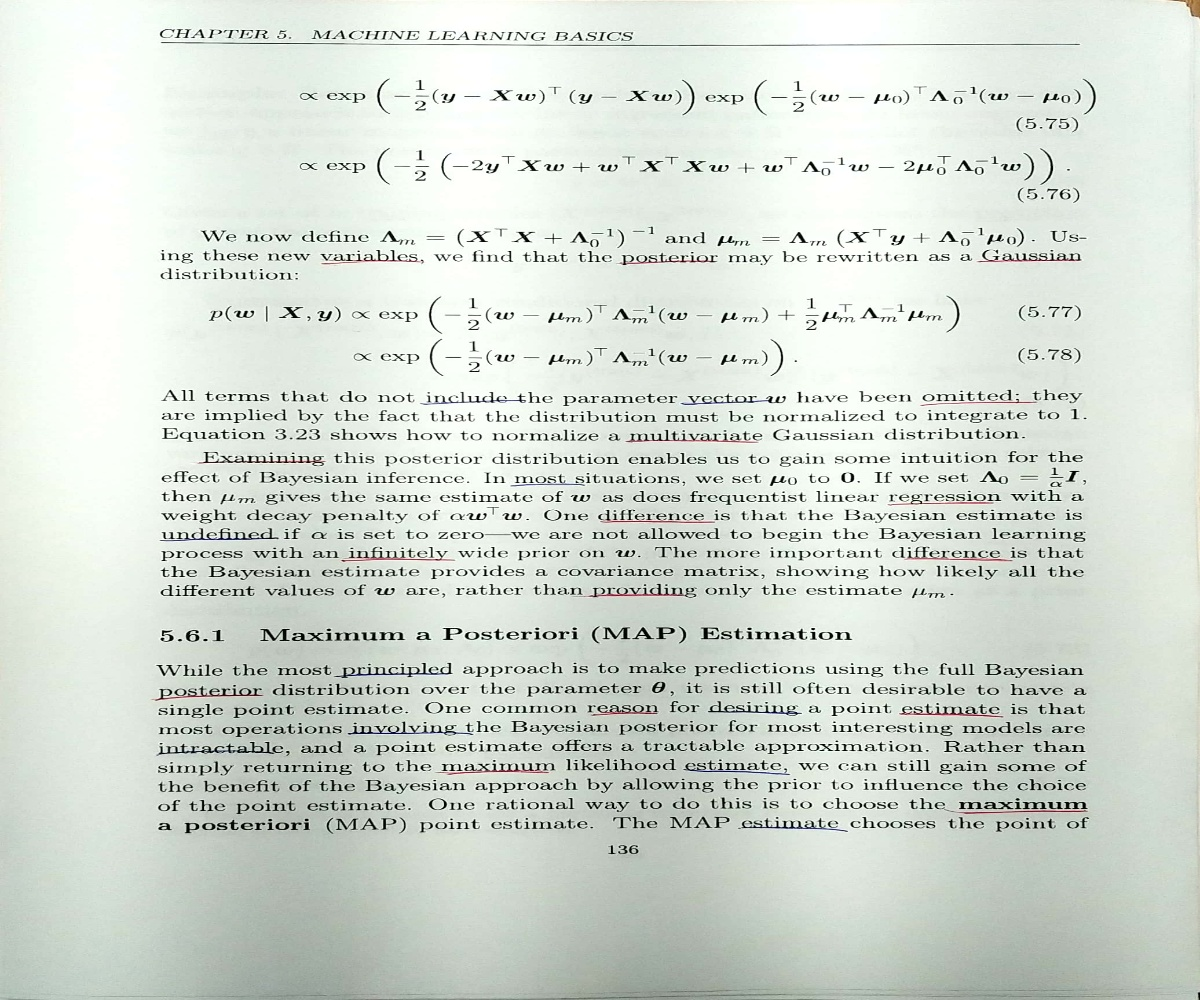underline: (347, 730, 476, 741), (736, 824, 853, 836), (942, 807, 1091, 816), (598, 517, 717, 528), (898, 709, 1007, 721), (899, 555, 1015, 566), (197, 458, 331, 467), (683, 767, 792, 778), (436, 765, 554, 775), (703, 707, 802, 718), (332, 672, 452, 681), (338, 556, 457, 565), (920, 399, 1039, 408), (156, 750, 276, 758), (577, 591, 688, 599), (887, 500, 996, 508), (153, 693, 269, 700), (319, 256, 426, 263), (158, 536, 282, 542), (679, 398, 771, 406), (616, 259, 721, 266), (977, 257, 1085, 263), (587, 709, 658, 718), (508, 481, 589, 488), (421, 399, 531, 404)
